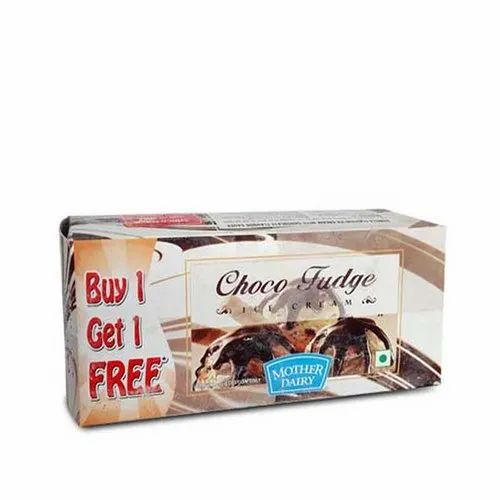Mother_Dairy: (260, 348, 335, 400)
